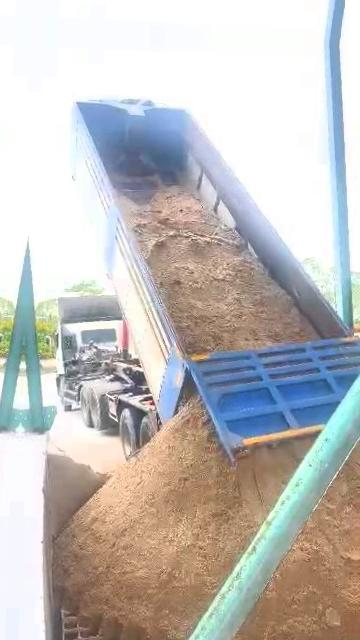sand: (56, 380, 311, 640), (122, 187, 317, 353), (241, 442, 360, 640), (48, 441, 108, 534)
